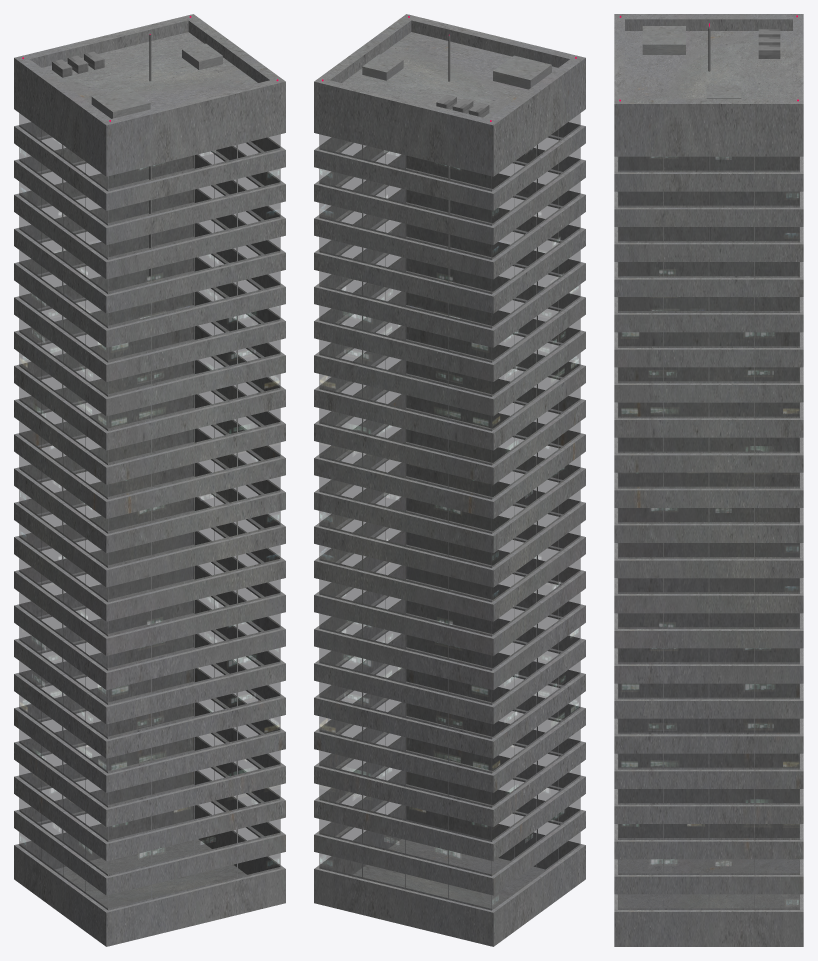
File: brutalist-tower.glb
The picture shows the model from 3 angles, left to right: view 1: azimuth 30°, elevation 25°; view 2: azimuth 150°, elevation 25°; view 3: azimuth 270°, elevation 25°; orthographic projection. The views are drawn at different scales.
Visible parts, largest first — view 1: brutalist-skyscraper-1.001; view 2: brutalist-skyscraper-1.001; view 3: brutalist-skyscraper-1.001.
Part boxes in pixels (x1=…): brutalist-skyscraper-1.001: x1=14, y1=14, x2=285, y2=946; brutalist-skyscraper-1.001: x1=314, y1=14, x2=585, y2=946; brutalist-skyscraper-1.001: x1=614, y1=14, x2=803, y2=946.
Size of the model in its own units: 73.03 by 333 by 65.09.
5 materials, 4 textured.
